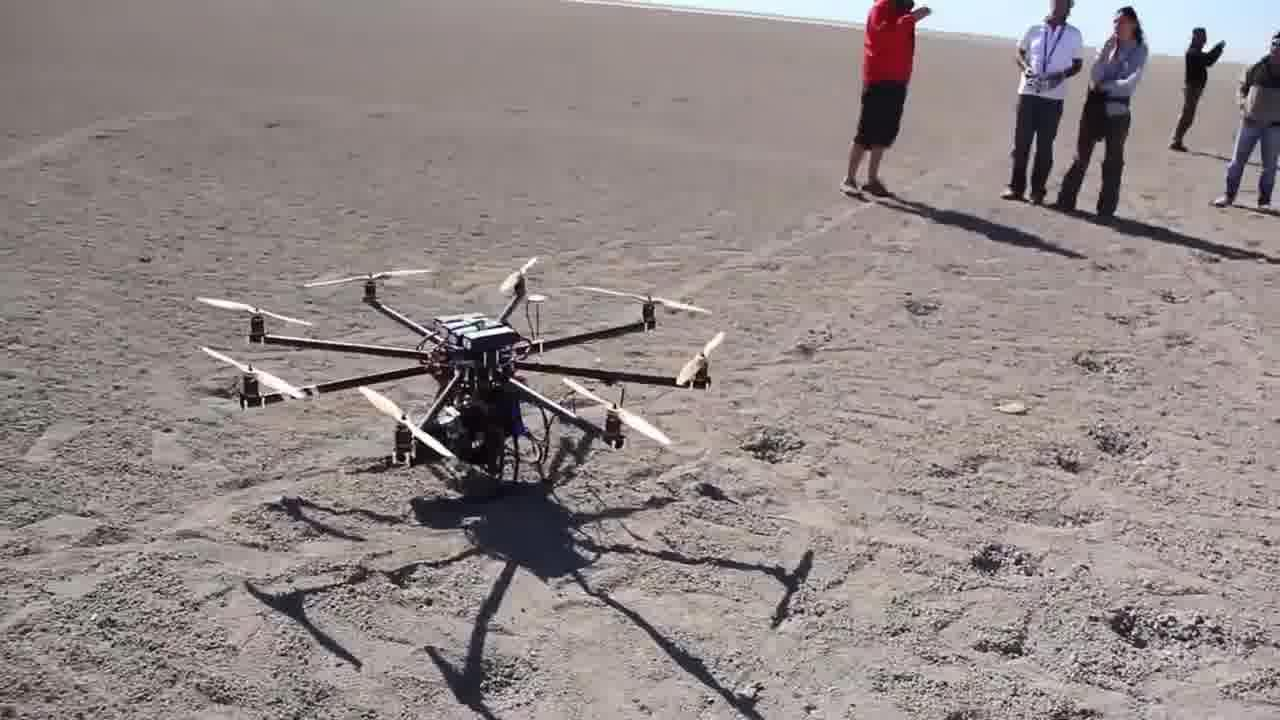drone: (185, 243, 739, 514)
